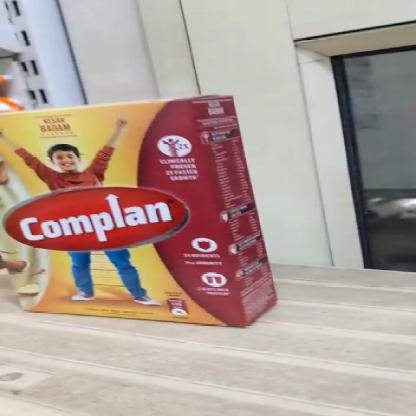Complan Kesar Badam: (0, 89, 286, 332)
